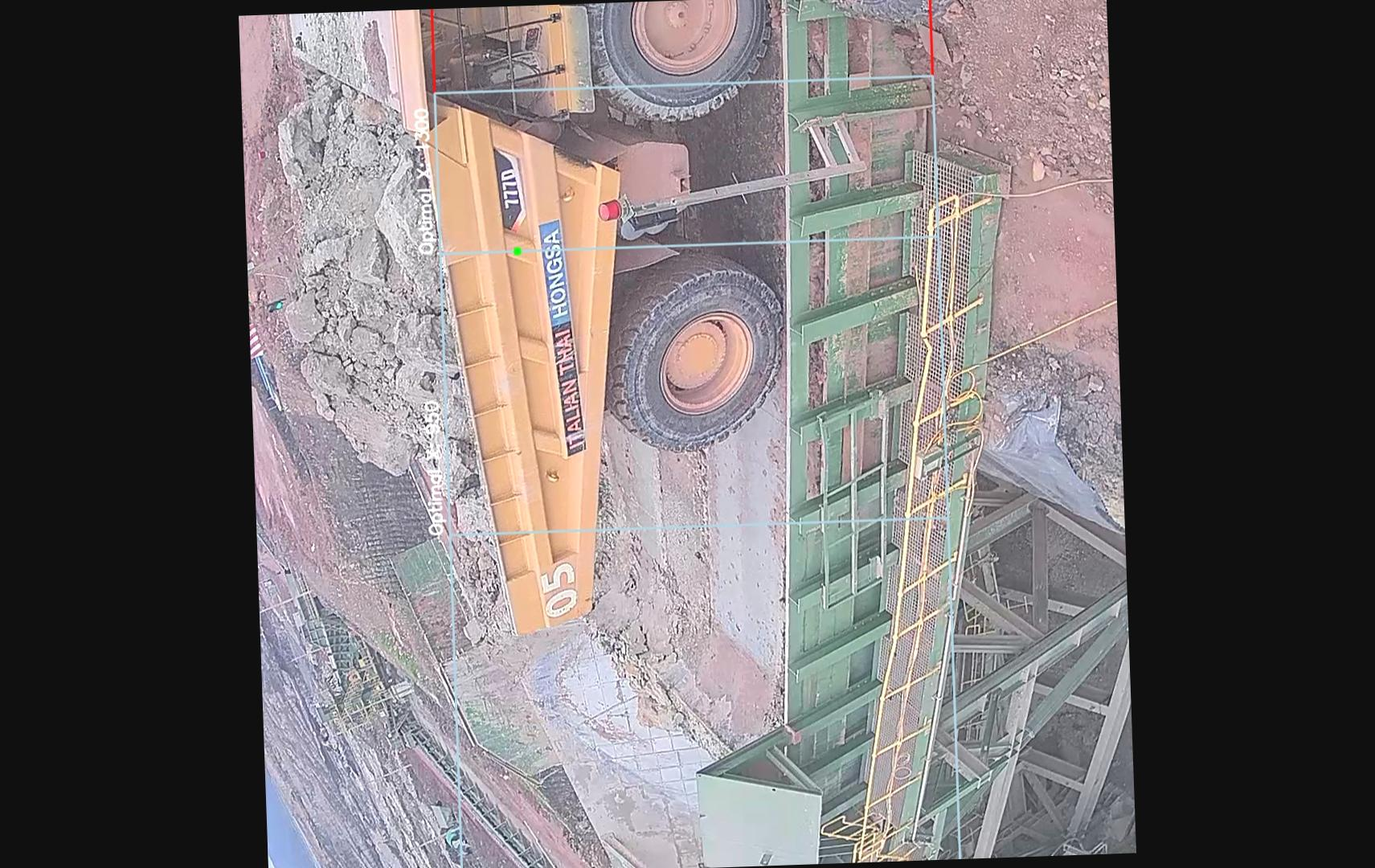company: (536, 210, 588, 464)
full_load: (265, 103, 472, 479)
mining_truck: (248, 0, 796, 650)
tail_number: (530, 548, 591, 627)
truck_size: (488, 137, 529, 236)
